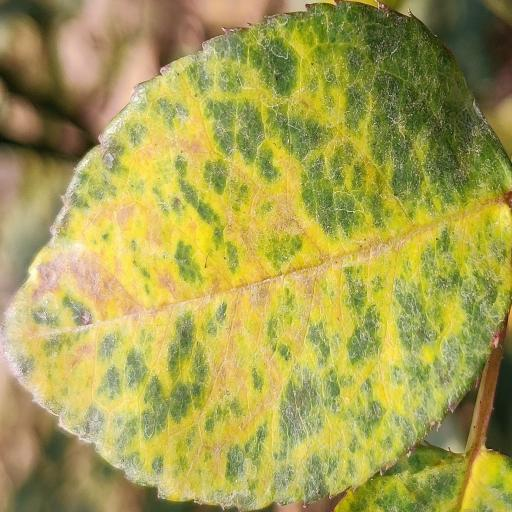red_mite: (0, 0, 512, 509)
